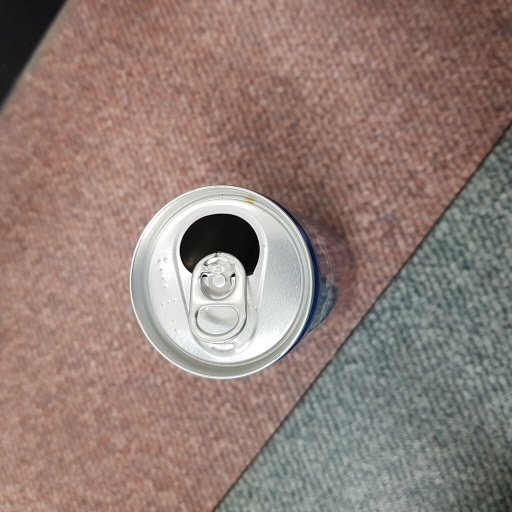Metal_0: (126, 180, 347, 381)
